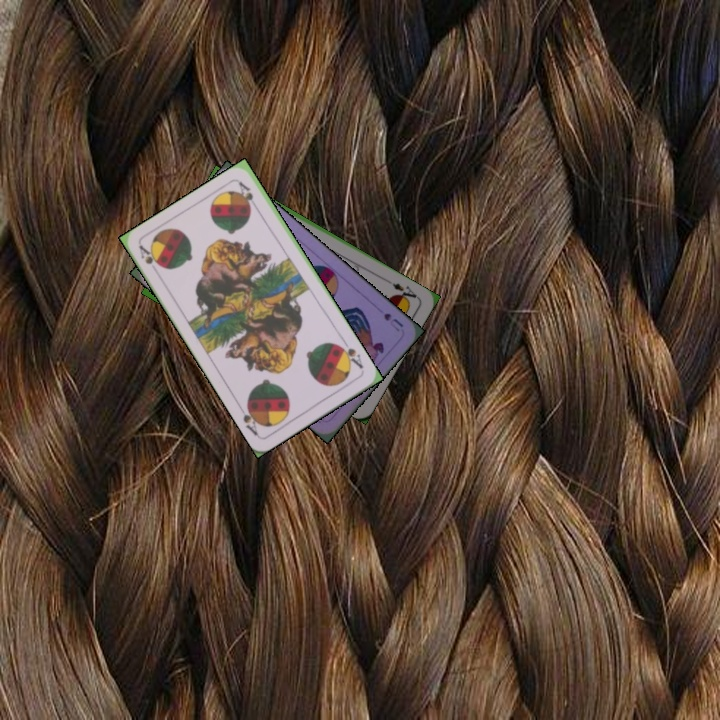EA: (384, 276, 421, 305)
SA: (334, 336, 366, 371), (135, 241, 165, 271)
SU: (379, 309, 406, 334)
